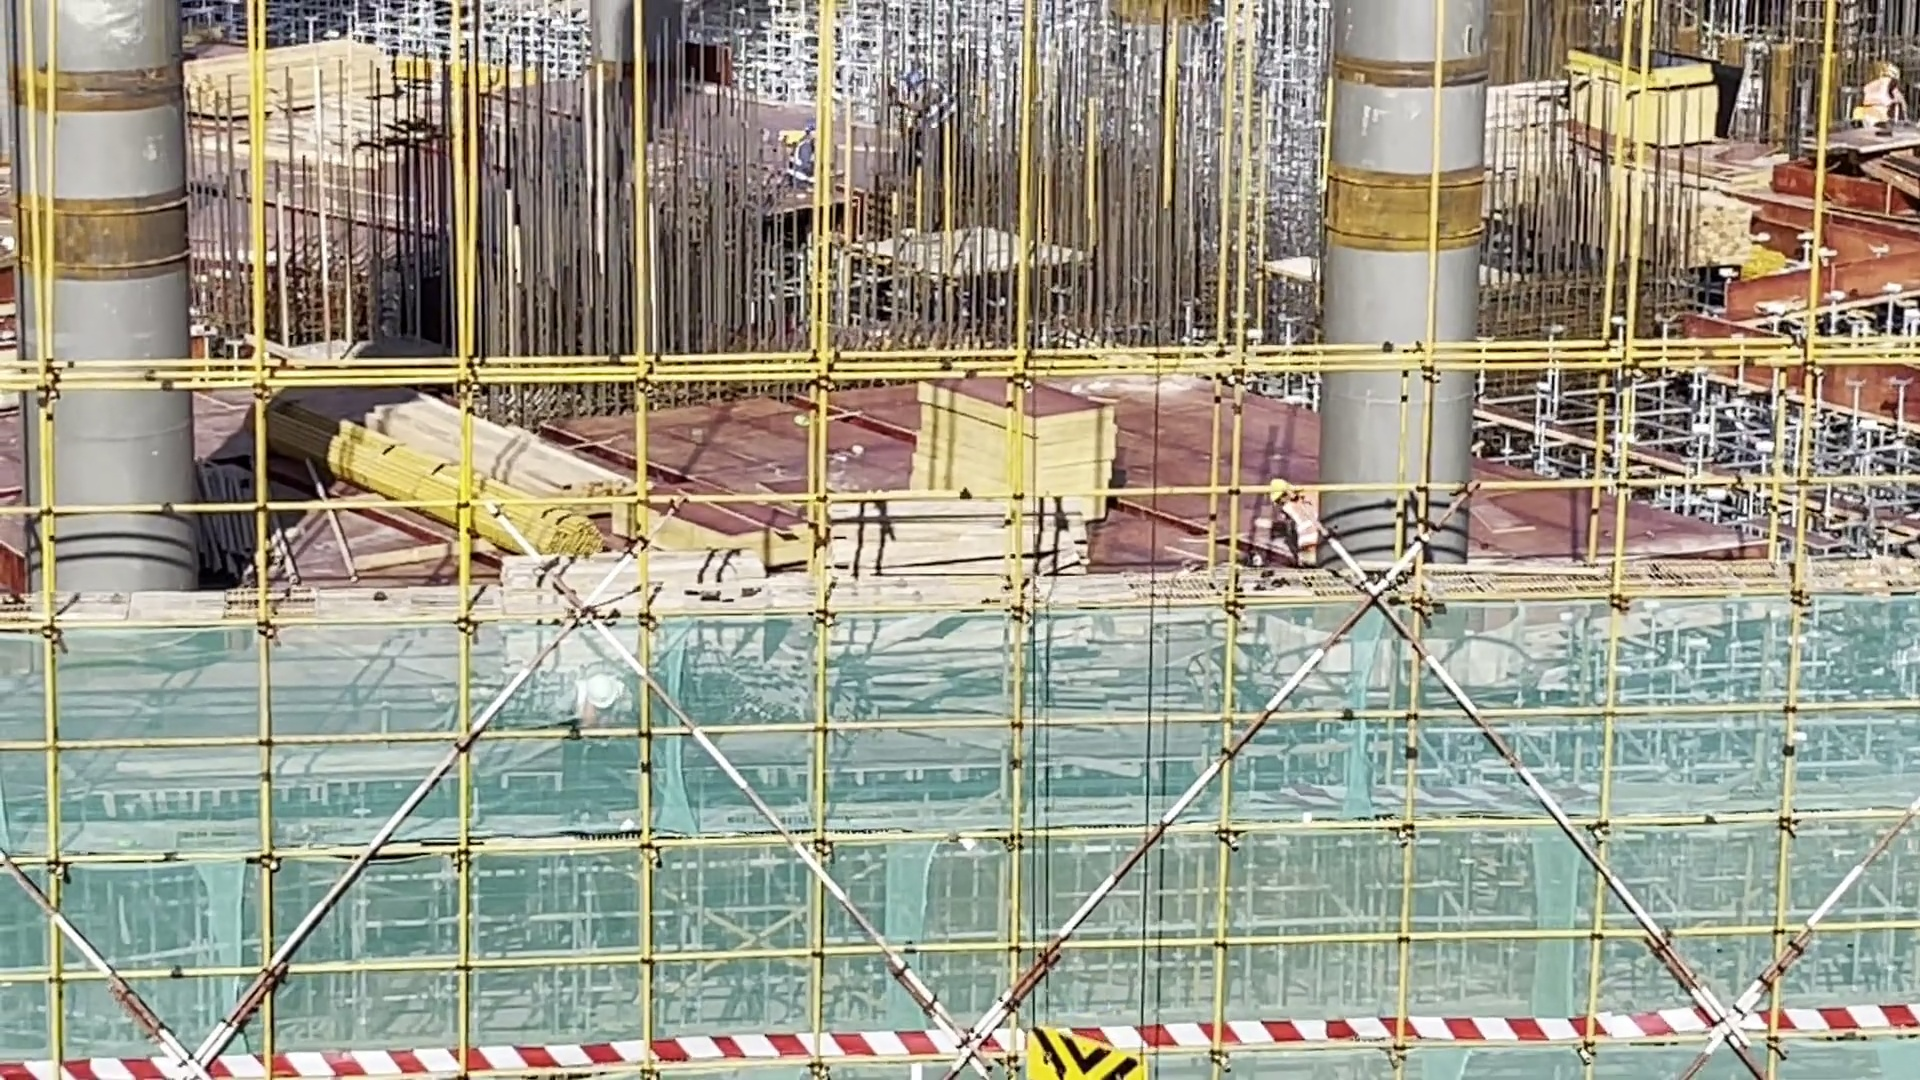board: (924, 379, 1119, 497)
hook: (1027, 1026, 1150, 1080)
person: (1255, 474, 1325, 562)
wood: (335, 399, 624, 550), (185, 34, 385, 110), (1679, 197, 1752, 270)
